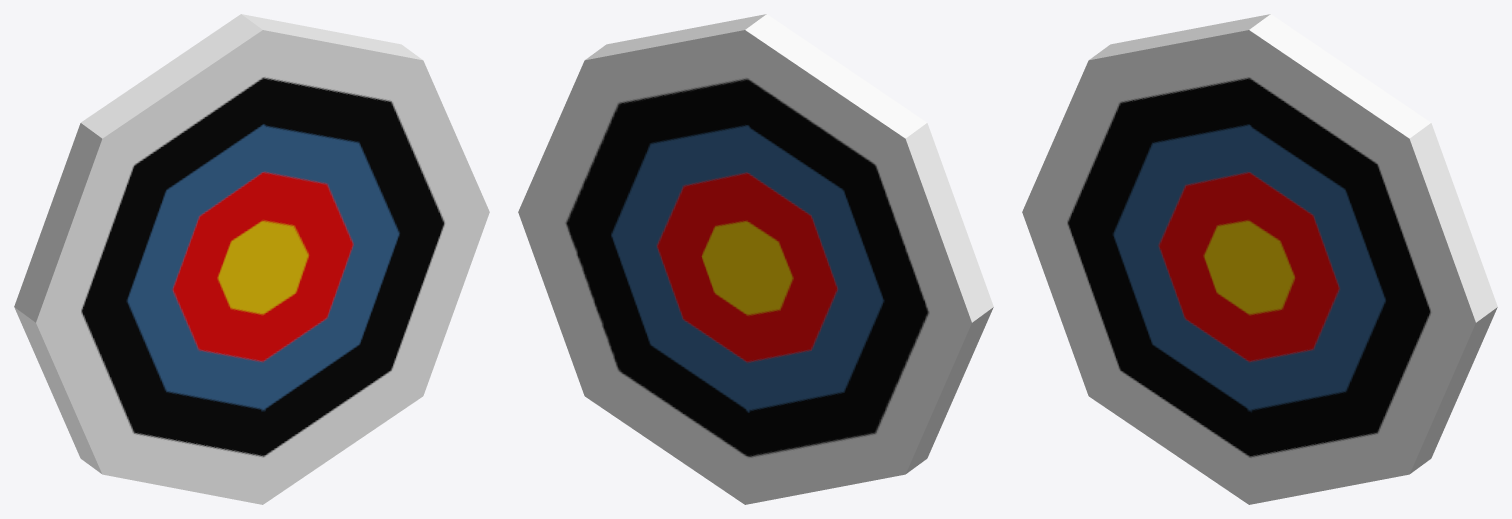
The model's file is targetDouble.glb.
The picture shows the model from 3 angles, left to right: view 1: azimuth 30°, elevation 25°; view 2: azimuth 150°, elevation 25°; view 3: azimuth 330°, elevation 25°; orthographic projection.
Parts seen in each view (by area): view 1: target; view 2: target; view 3: target.
Part boxes in pixels (x1,y1,x2,y2): target: [14, 14, 489, 504]; target: [518, 14, 993, 504]; target: [1022, 14, 1497, 504].
Bounding box in the file's own units: 6 × 6 × 0.5.
1 material, 1 textured.
